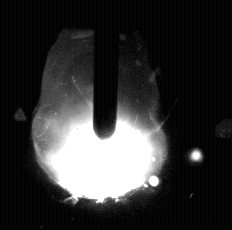arame: (94, 0, 119, 139)
poca: (34, 0, 167, 230)
